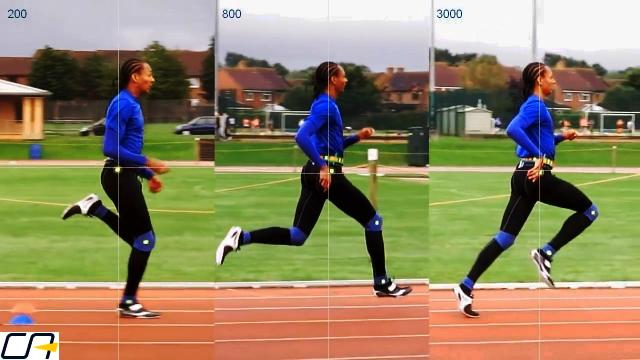berlari: (213, 56, 417, 302), (448, 55, 604, 321), (54, 48, 166, 326)
